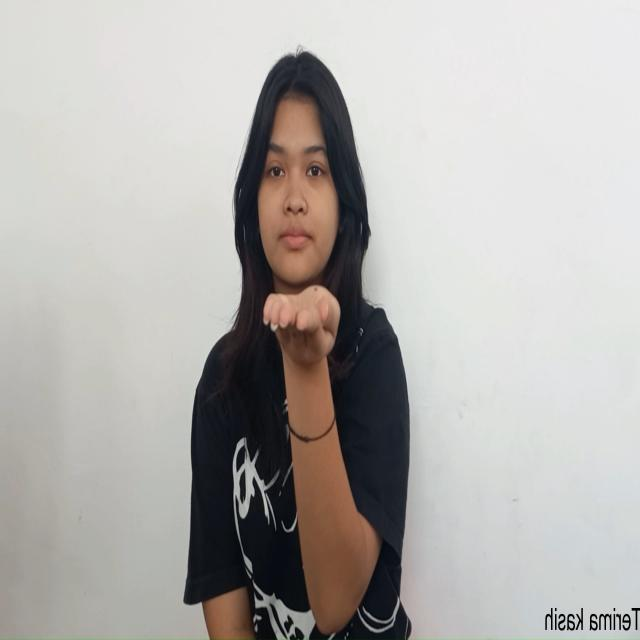Terima kasih -BISINDO-: (259, 278, 343, 376)
